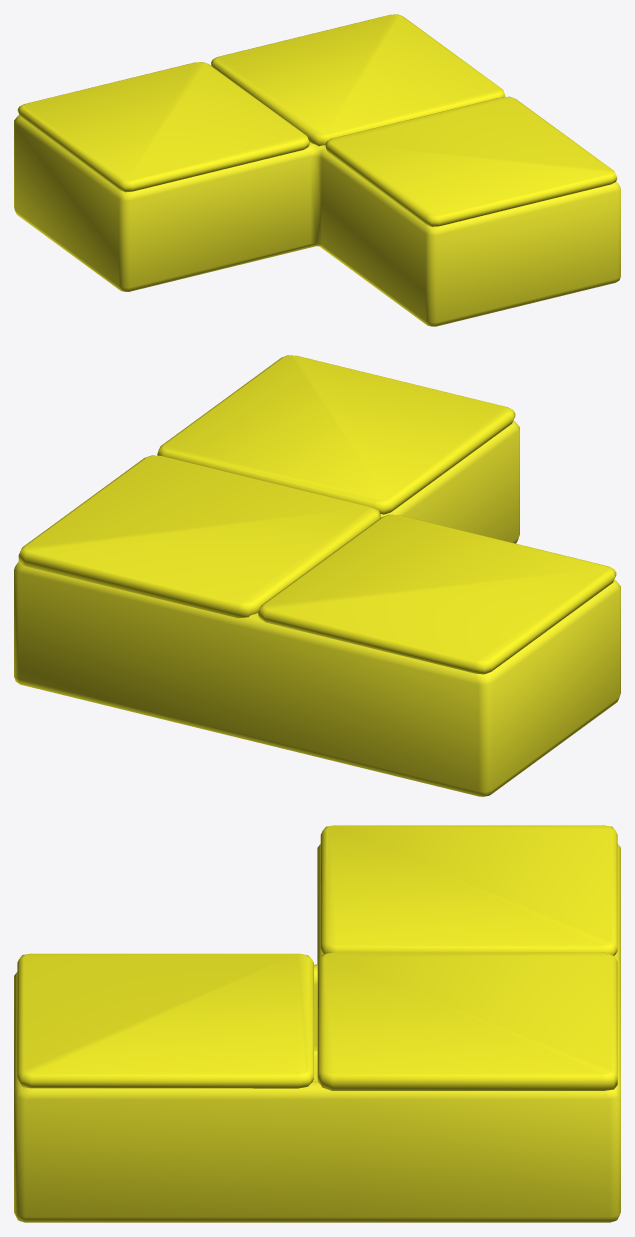
The model's file is Block-L-Yellow.fbx.
3 views of the same model, one above another, from view 1: azimuth 30°, elevation 25°; view 2: azimuth 150°, elevation 25°; view 3: azimuth 270°, elevation 25° (orthographic). The views are drawn at different scales.
Parts seen in each view (by area): view 1: Cube.039, Block-L-Yellow; view 2: Cube.039, Block-L-Yellow; view 3: Cube.039, Block-L-Yellow.
Part boxes in pixels (x1=…): Cube.039: x1=17, y1=14, x2=617, y2=226; Block-L-Yellow: x1=14, y1=115, x2=620, y2=326; Cube.039: x1=18, y1=355, x2=616, y2=674; Block-L-Yellow: x1=14, y1=420, x2=620, y2=796; Cube.039: x1=17, y1=825, x2=617, y2=1090; Block-L-Yellow: x1=14, y1=843, x2=620, y2=1222.
Bounding box in the file's own units: 200 × 54.25 × 200.
